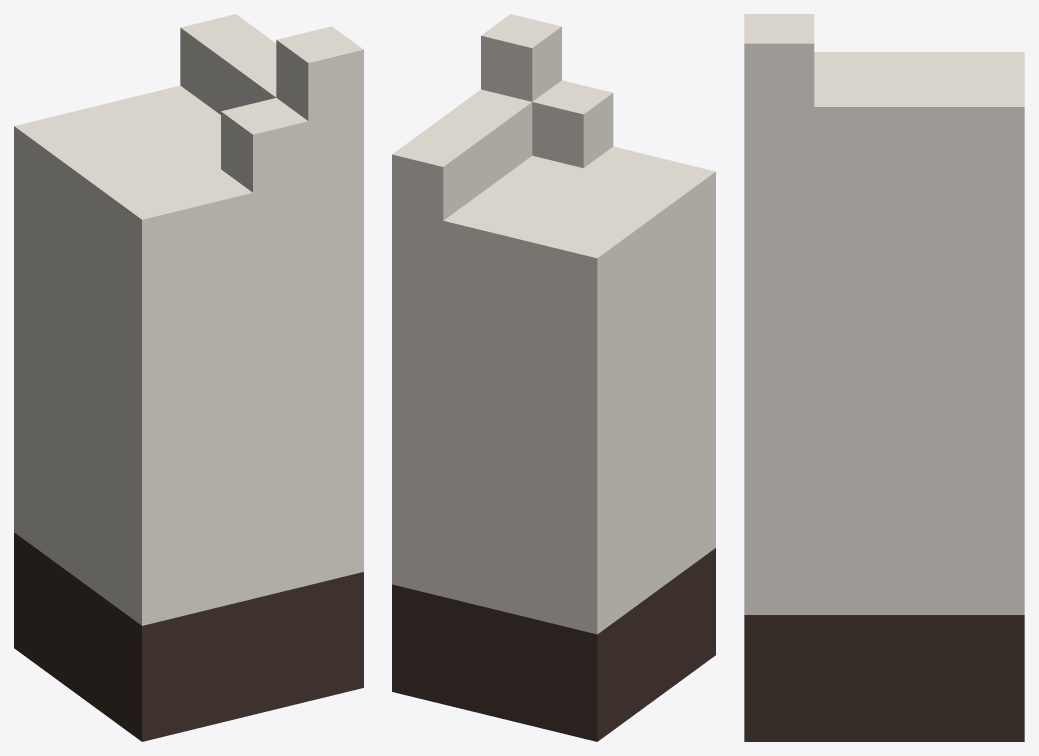
File: cow__leg_fl.glb
The picture shows the model from 3 angles, left to right: view 1: azimuth 30°, elevation 25°; view 2: azimuth 150°, elevation 25°; view 3: azimuth 270°, elevation 25°; orthographic projection. The views are drawn at different scales.
Parts seen in each view (by area): view 1: cow__leg_fl; view 2: cow__leg_fl; view 3: cow__leg_fl.
Boxes of the visible parts, left/top/right/bottom form: cow__leg_fl: left=14, top=14, right=363, bottom=741; cow__leg_fl: left=392, top=14, right=715, bottom=741; cow__leg_fl: left=744, top=14, right=1024, bottom=741.
Bounding box in the file's own units: 0.4 × 1.1 × 0.4.
1 material, 1 textured.
